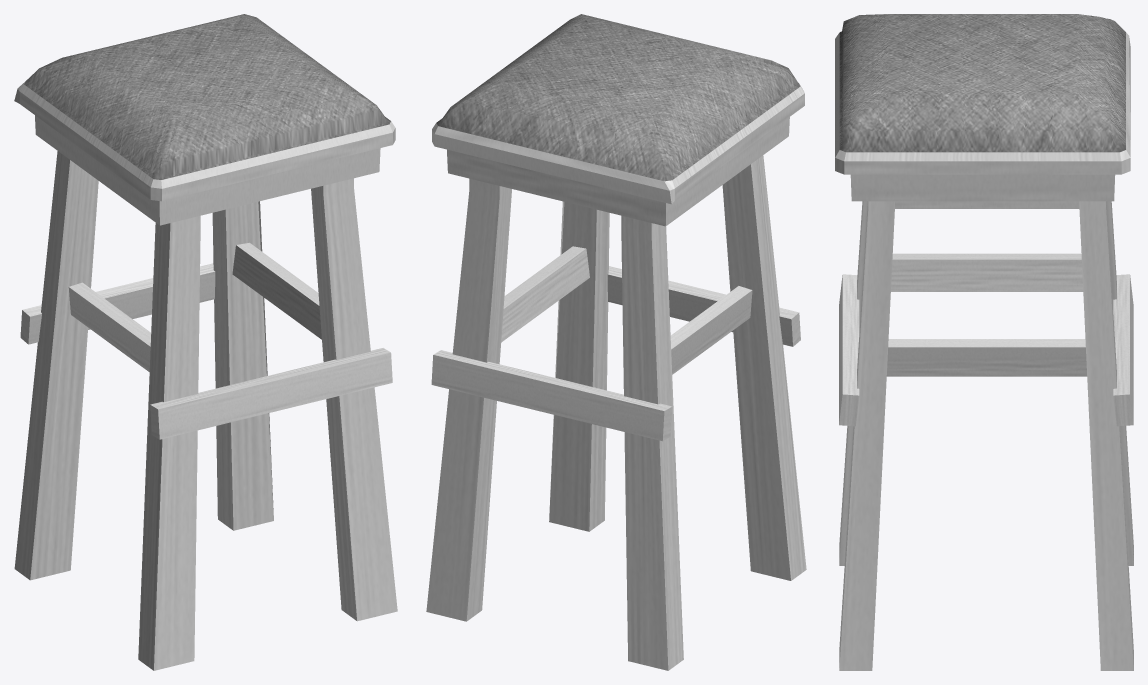
The model's file is Barstool_A_2.FBX.
3 renders of one model, left to right at view 1: azimuth 30°, elevation 25°; view 2: azimuth 150°, elevation 25°; view 3: azimuth 270°, elevation 25°, orthographic. The views are drawn at different scales.
Visible parts, largest first — view 1: Bar_Stool; view 2: Bar_Stool; view 3: Bar_Stool.
Part boxes in pixels (<box>): Bar_Stool: <box>14,14,397,670</box>; Bar_Stool: <box>426,14,806,670</box>; Bar_Stool: <box>835,14,1133,670</box>.
Bounding box in the file's own units: 85.32 × 174 × 84.9.
